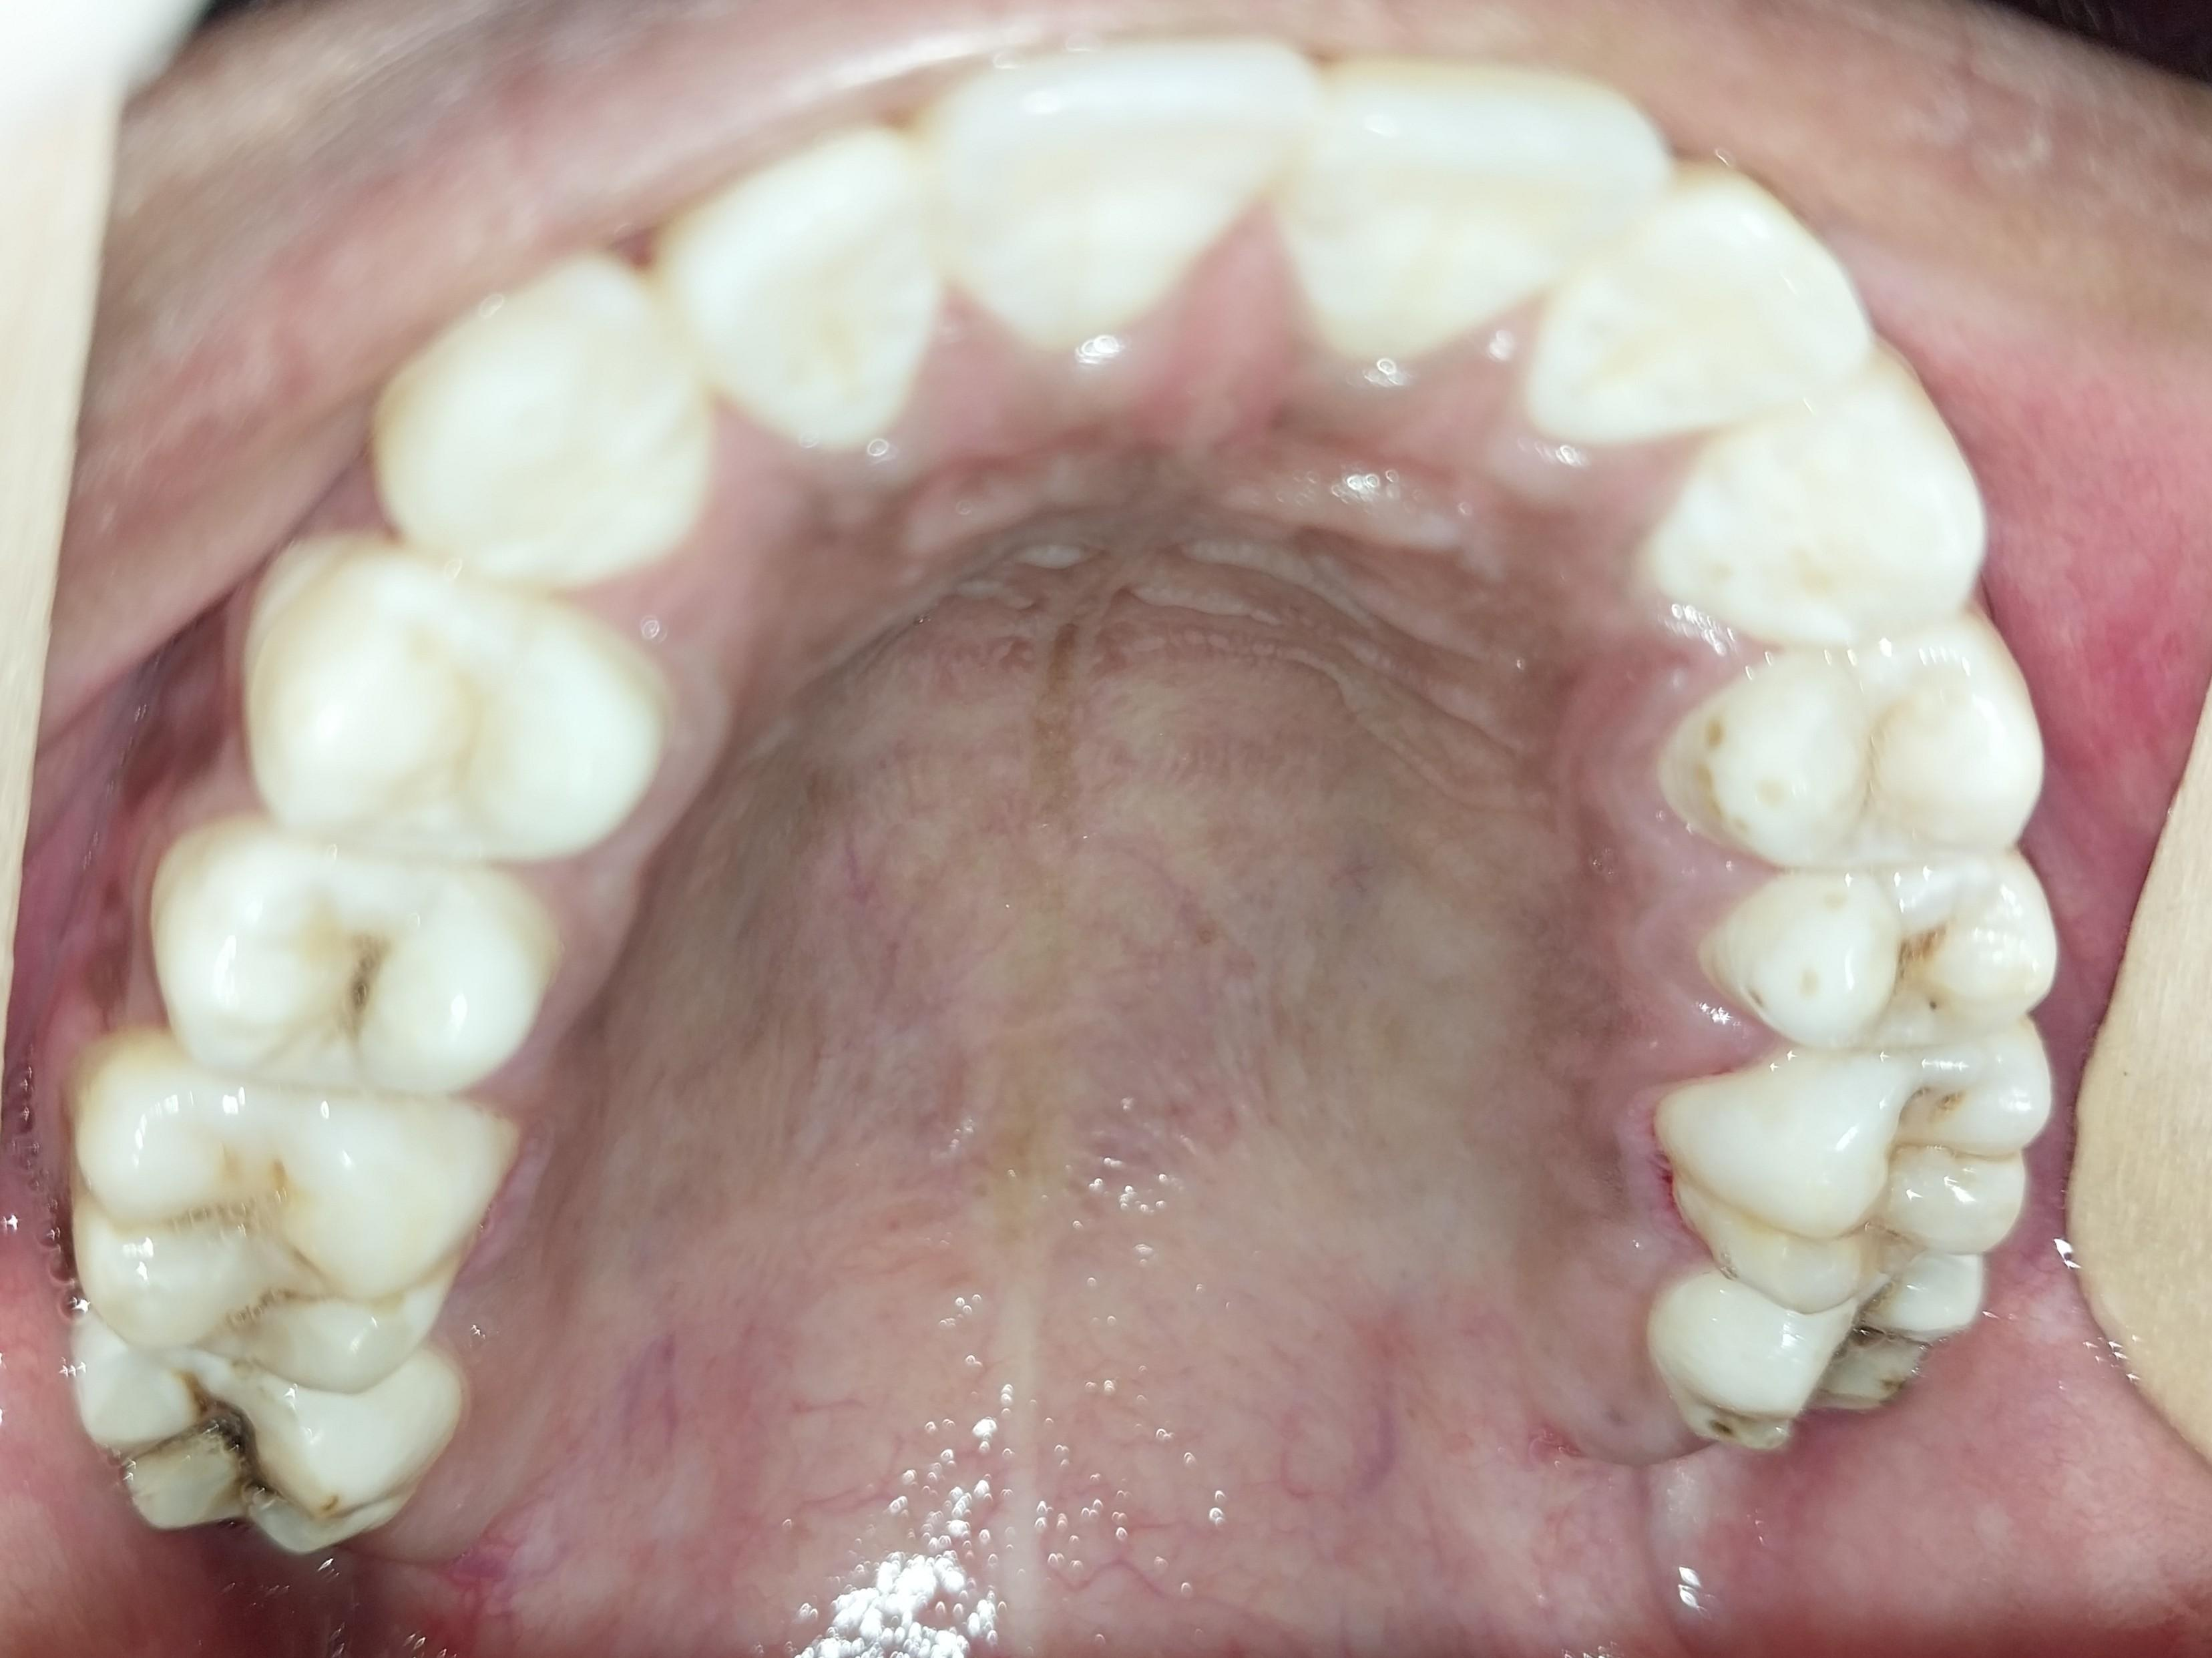D: (75, 1046, 519, 1383), (145, 829, 543, 1102), (1660, 1040, 2052, 1311), (66, 1319, 487, 1563), (1715, 861, 2064, 1076), (1646, 1261, 1982, 1458)
